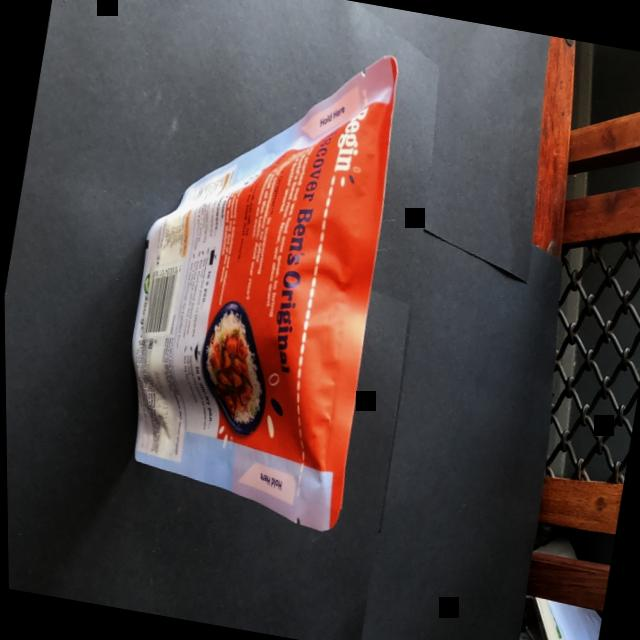Basmatirice: (86, 13, 435, 558)
